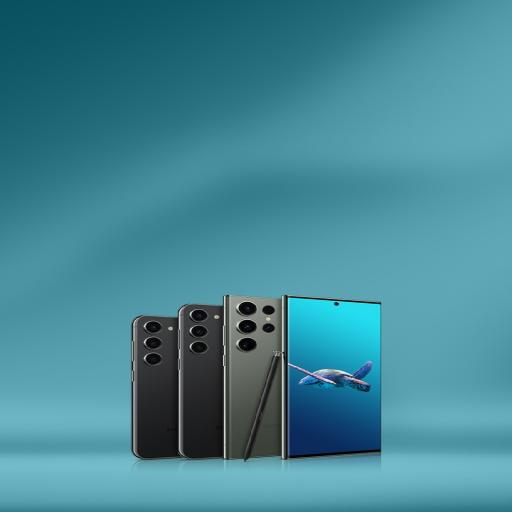phone: (138, 317, 184, 464)
